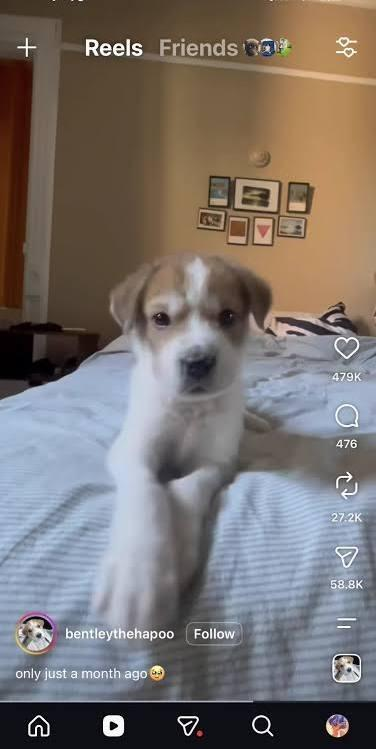puppy-dog: (77, 250, 277, 649)
